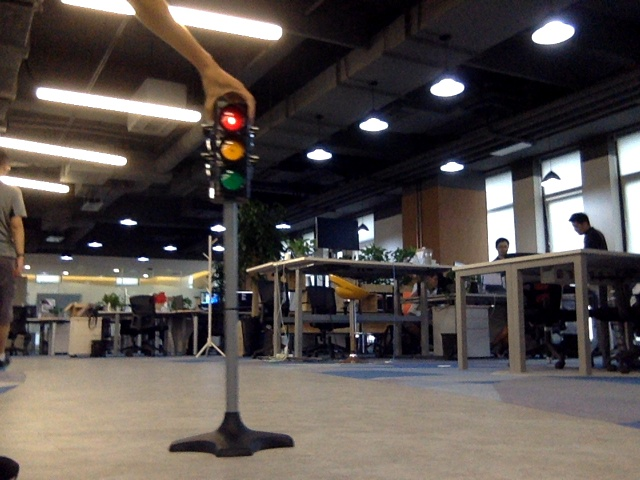red: (213, 107, 246, 192)
